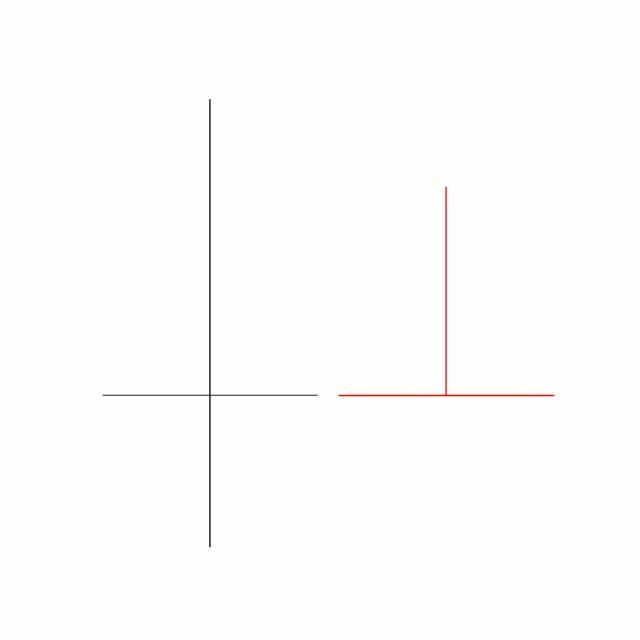Gravestone Doji: (328, 185, 566, 399)
